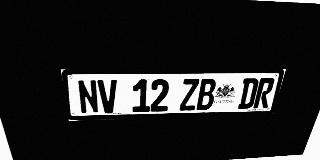1: (132, 79, 151, 112)
2: (150, 79, 169, 112)
B: (196, 79, 217, 110)
D: (237, 78, 260, 109)
N: (76, 80, 99, 114)
R: (253, 78, 276, 108)
V: (97, 80, 118, 113)
Z: (179, 79, 199, 111)
